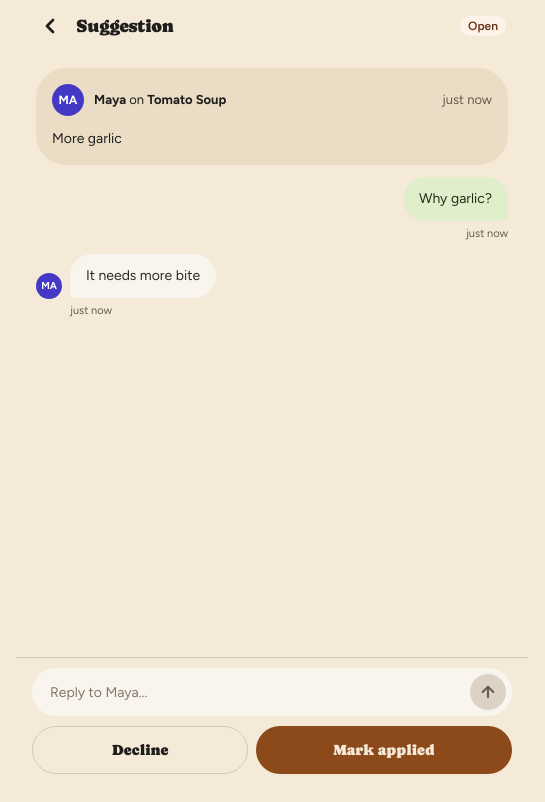
SuggestionThreadPage › shows the reply limit message (RL-048) and keeps the draft
Type "Why?" into the field labelled "Reply to Maya" at (258, 692), box x1=50 y1=668 x2=466 y2=716
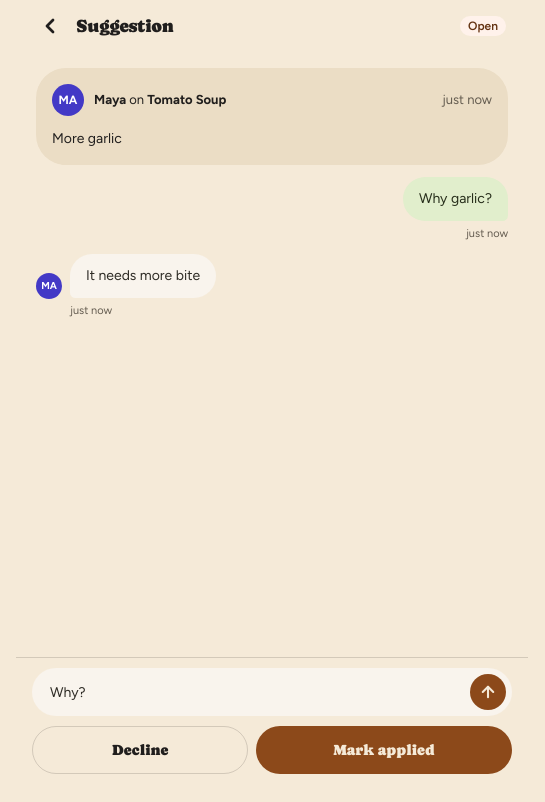
Click the button named "Send reply" at (488, 692), box x1=466 y1=670 x2=510 y2=714
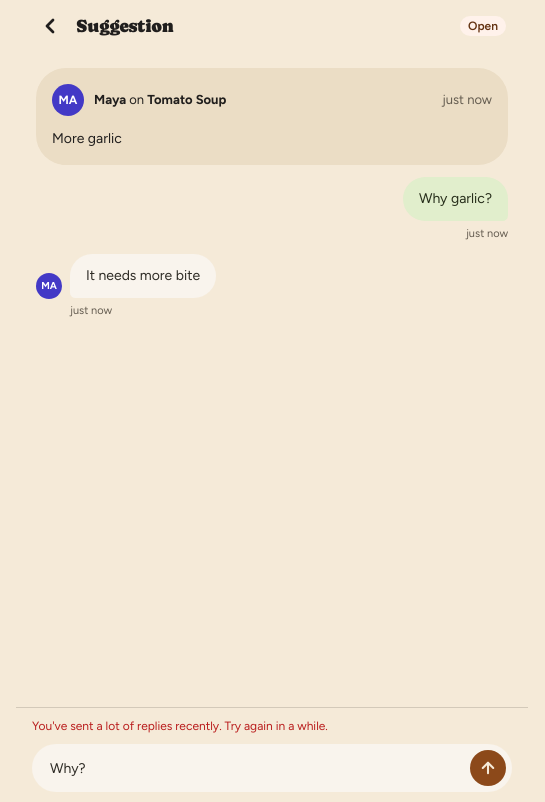
Check: the message "You've sent a lot of replies recently. Try again in a while." is shown, box x1=32 y1=719 x2=328 y2=733
